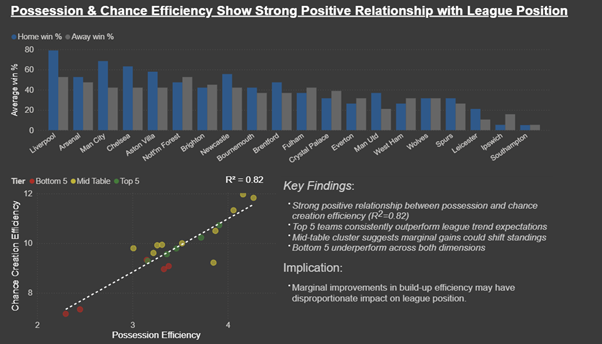

This screenshot's page, from the dashboard's own definition file:
{"tool":"powerbi","page":{"name":"Competitive Insights","canvas":[1280,720],"ordinal":2},"visuals":[{"type":"textbox","box":[46.7,13.7,1233.6,52.1],"z":0},{"type":"clusteredColumnChart","fields":{"Y":["Avg(KPI table.home_win_pct)","Avg(KPI table.away_win_pct)"],"Category":["KPI table.team"]},"box":[46.7,65.9,1108.8,293.7],"z":1000},{"type":"scatterChart","fields":{"X":["KPI table.possession_efficiency"],"Y":["KPI table.chance_creation_efficiency"],"Series":["KPI table.Tier"]},"box":[46.7,359.5,554.4,349.9],"z":2000},{"type":"textbox","box":[601,371.9,554.4,337.6],"z":3000},{"type":"card","fields":{"Values":["KPI table.R2_Display"]},"box":[481.6,359.5,91.9,39.8],"z":4000}]}

Visuals, with their boxes in screenshot pixels (x1, y1, x2, y2), scaled from the page's 1280x720 canvas onto the 602x344 screenshot:
textbox: bbox=(22, 7, 601, 31)
clusteredColumnChart - Avg(KPI table.home_win_pct) x Avg(KPI table.away_win_pct): bbox=(22, 31, 543, 172)
scatterChart - KPI table.possession_efficiency x KPI table.chance_creation_efficiency: bbox=(22, 172, 283, 339)
textbox: bbox=(283, 178, 543, 339)
card - KPI table.R2_Display: bbox=(227, 172, 270, 191)
